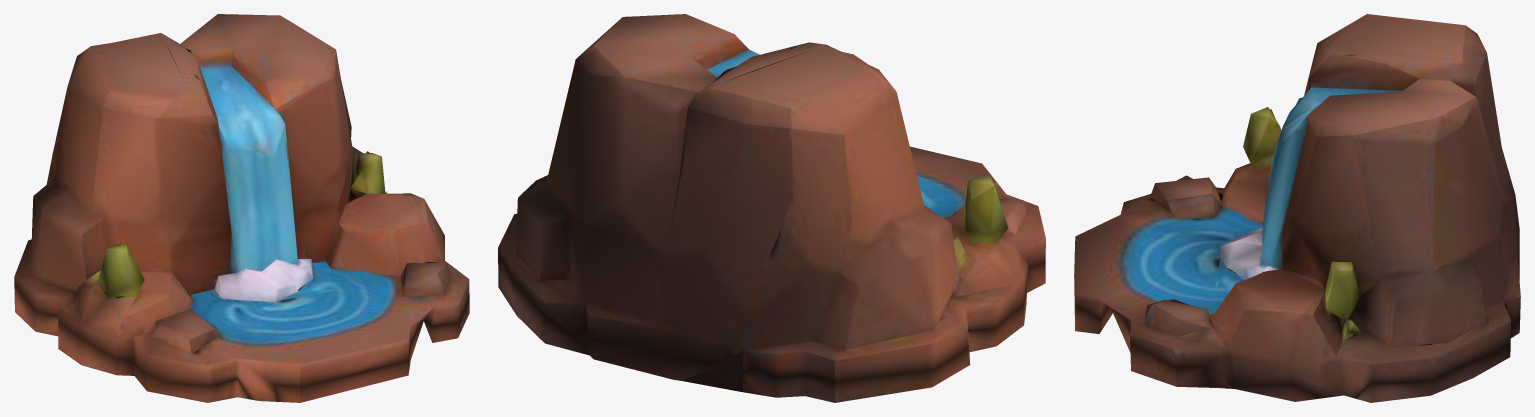
The model's file is lg-waterfall-rock.glb.
3 renders of one model, left to right at view 1: azimuth 30°, elevation 25°; view 2: azimuth 150°, elevation 25°; view 3: azimuth 270°, elevation 25°, orthographic. The views are drawn at different scales.
Parts seen in each view (by area): view 1: geometry_0; view 2: geometry_0; view 3: geometry_0.
Boxes of the visible parts, x1,y1,x2,y2 form: geometry_0: [14, 14, 469, 402]; geometry_0: [498, 14, 1045, 402]; geometry_0: [1074, 14, 1520, 402].
Size of the model in its own units: 1 by 0.5779 by 0.9752.
Materials: 1 (1 with a texture image).
